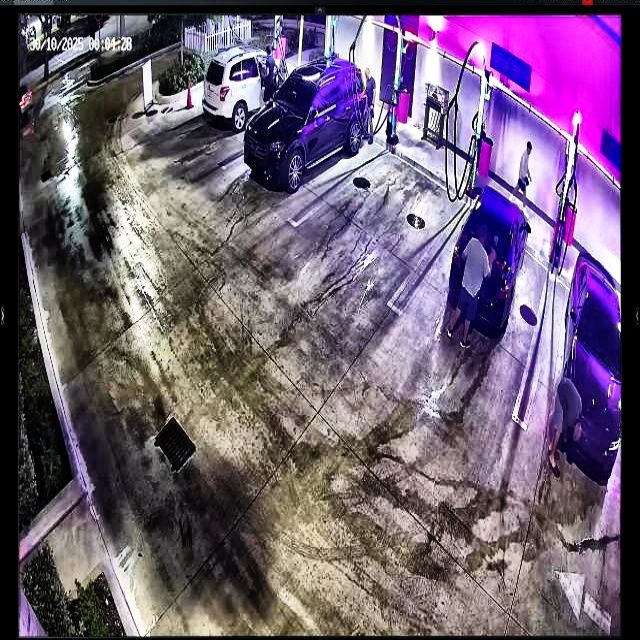Car: (246, 56, 367, 191), (451, 184, 530, 336)
